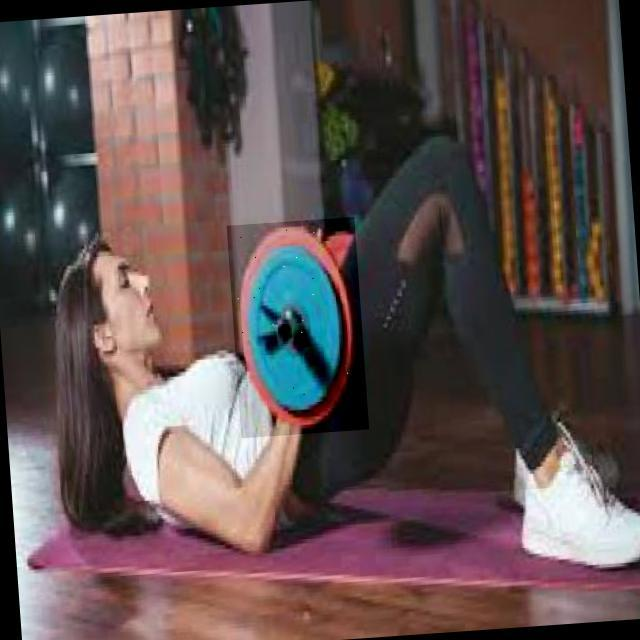barbell: (228, 218, 370, 439)
